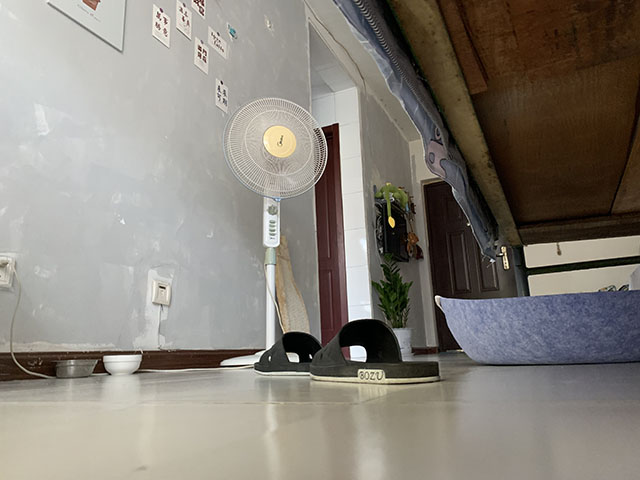bed: (330, 1, 639, 299)
slippers: (304, 319, 441, 385), (254, 328, 321, 378)
wire: (1, 256, 285, 381)
